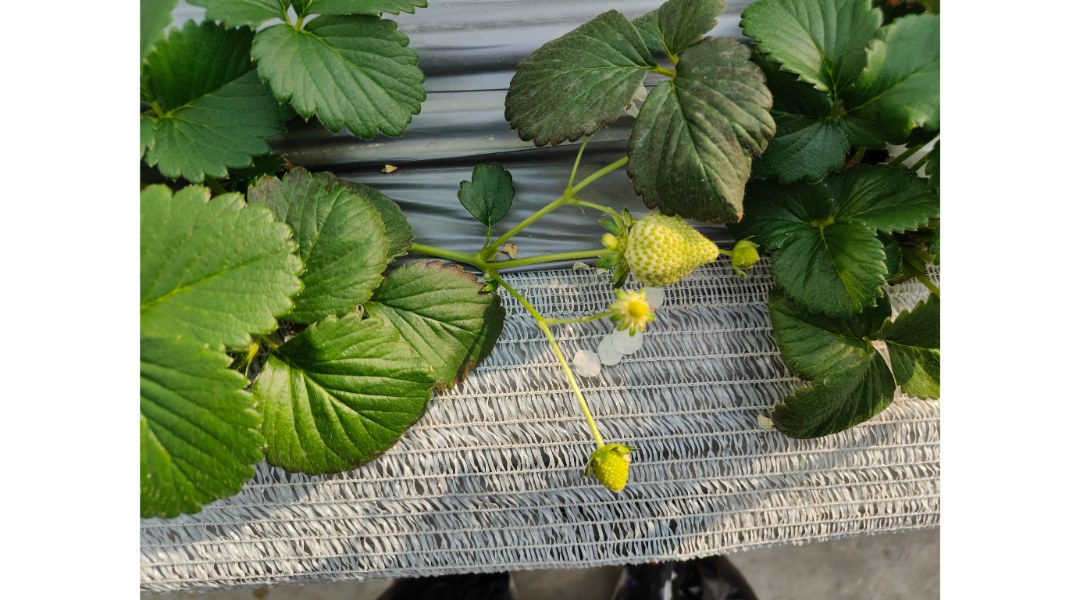berry: (585, 206, 720, 287), (571, 439, 633, 488), (606, 288, 663, 336), (724, 229, 763, 280)
strain: (540, 335, 606, 446), (506, 200, 564, 257), (398, 236, 474, 270), (576, 153, 627, 195), (491, 280, 542, 317)
